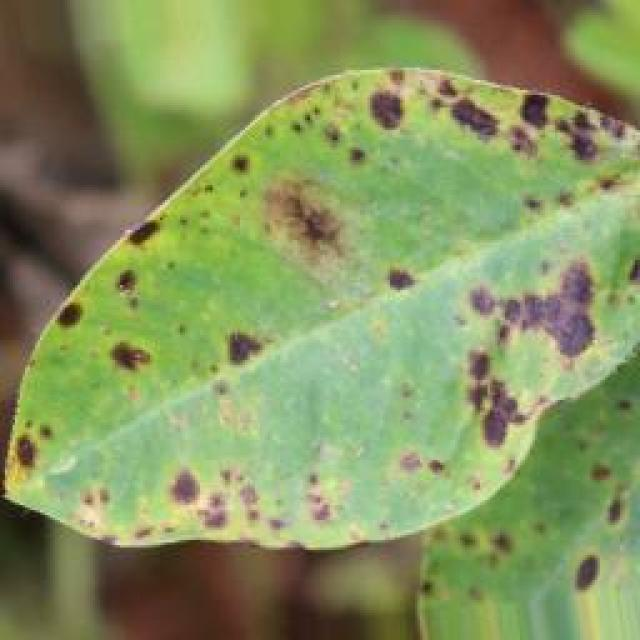Yellowish: (0, 58, 638, 523)
